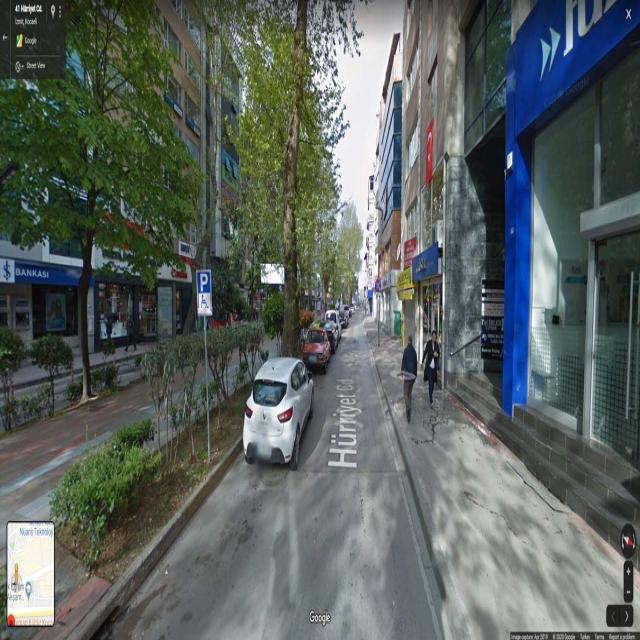park: (195, 268, 212, 295)
